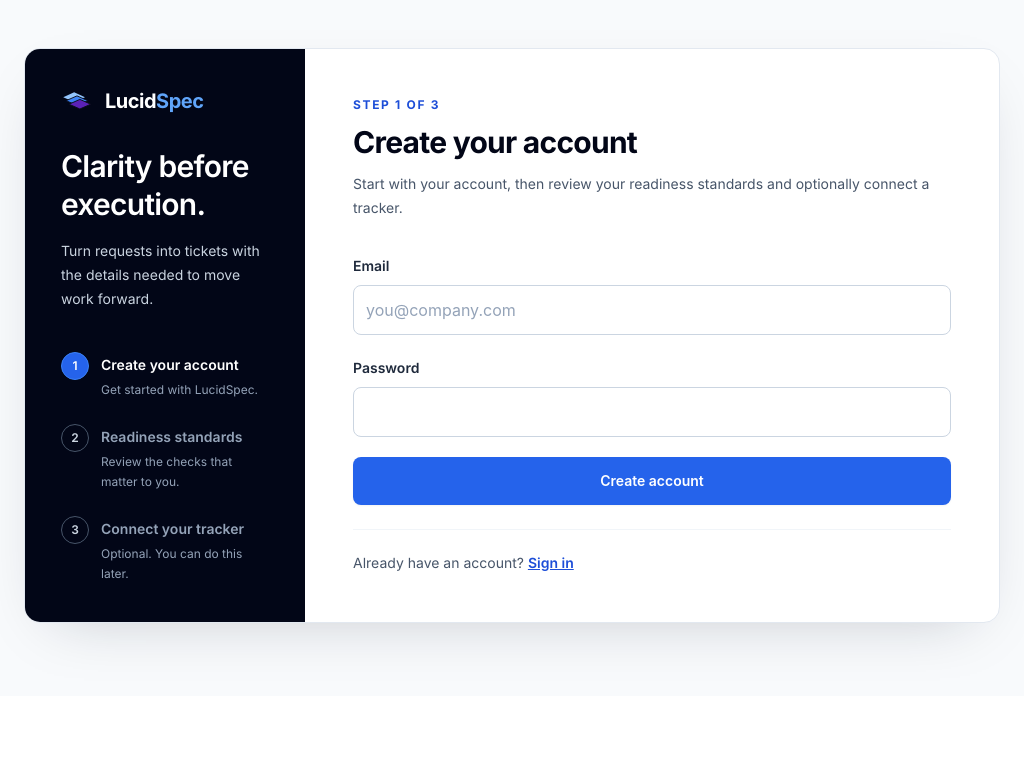
Test: SignUpPage › announces API errors and permits another attempt
Step 1. Type "demo@example.com" into the field labelled "Email" → (652, 310), box [353,285,951,335]
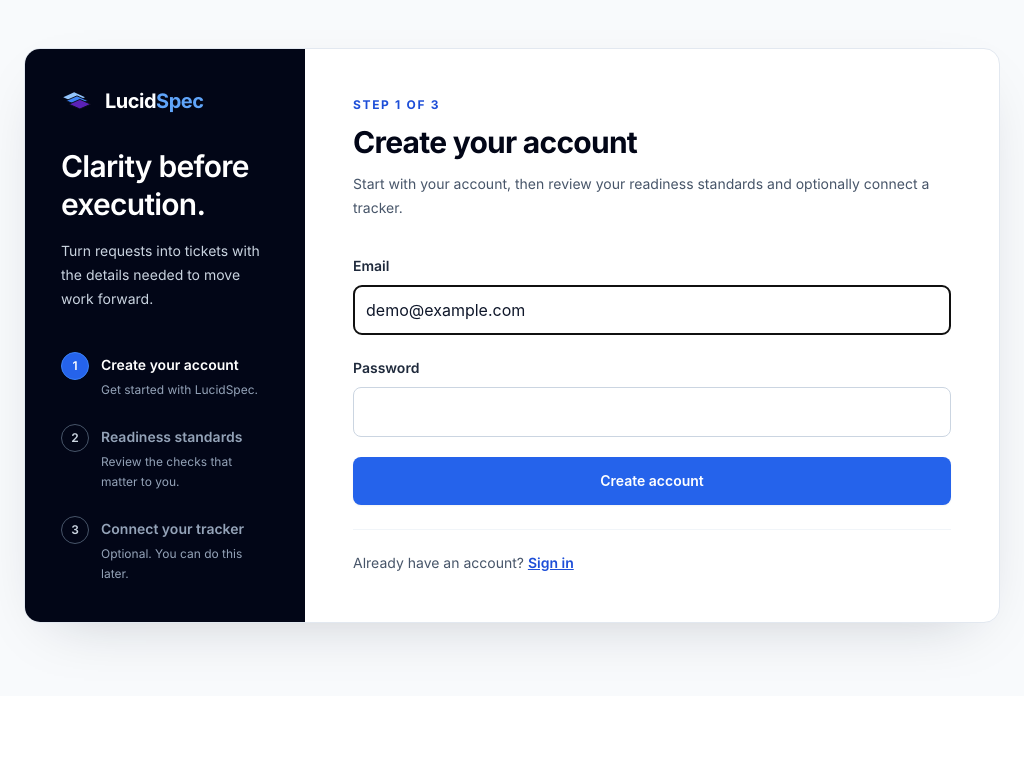
Step 2. Type "example-password" into the password field labelled "Password" → (652, 412), box [353,387,951,437]
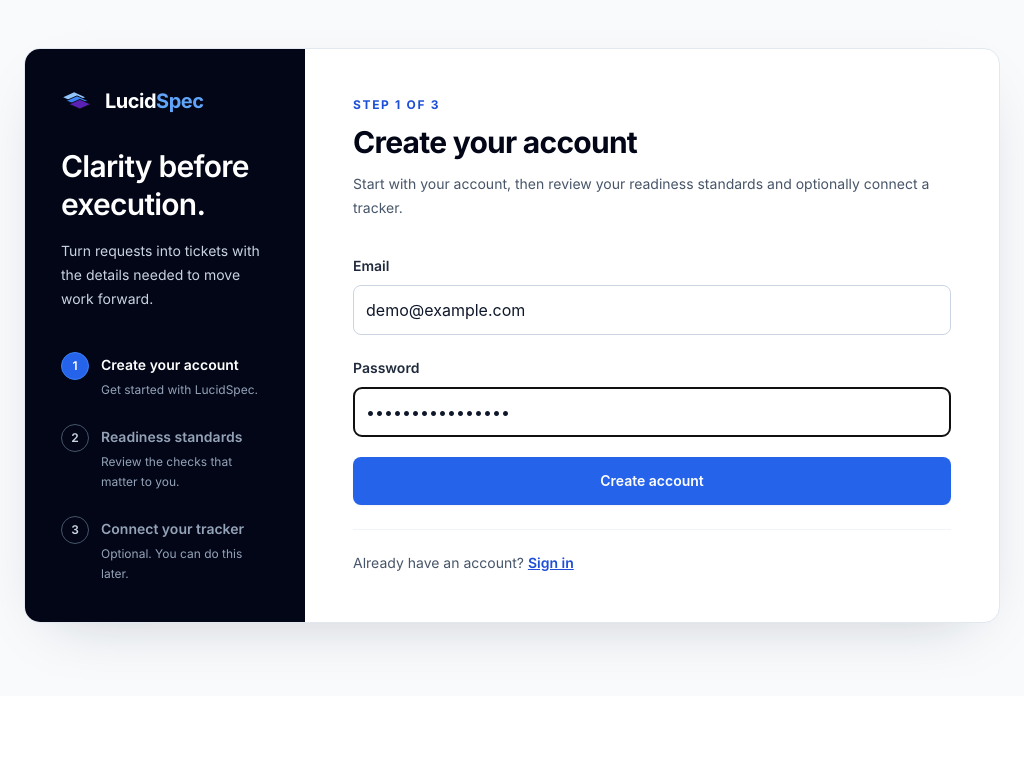
Step 3. Click the button "Create account" → click(652, 481), box [353,457,951,505]
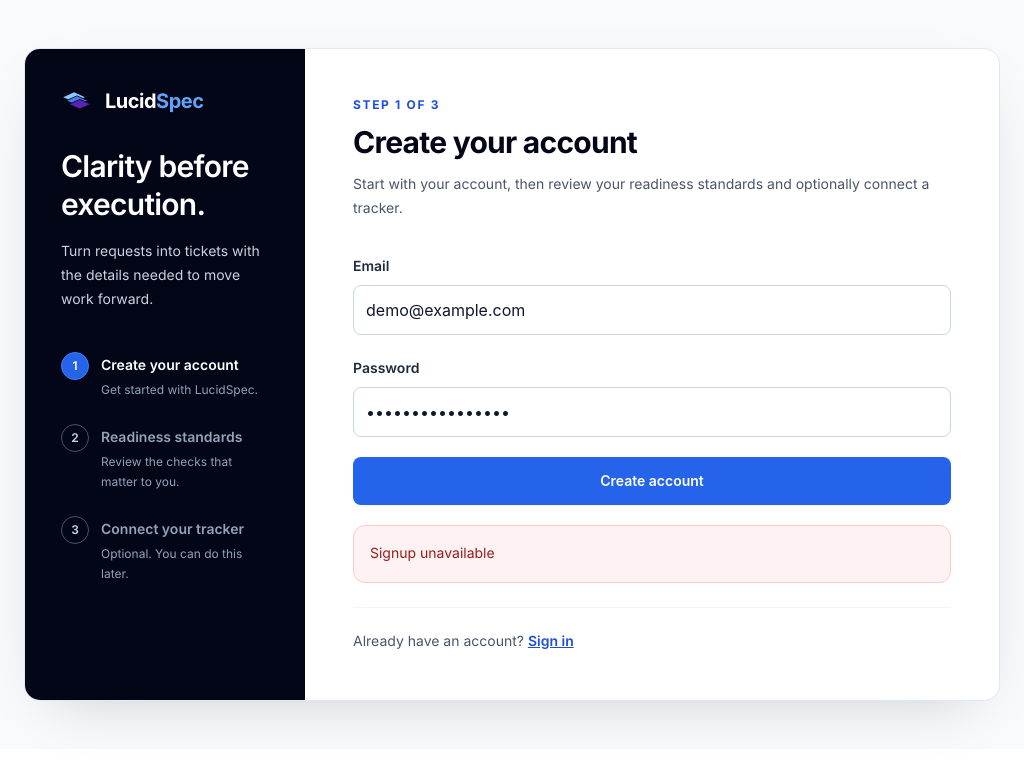
Now the message reads "Signup unavailable", box [370,545,495,562]
